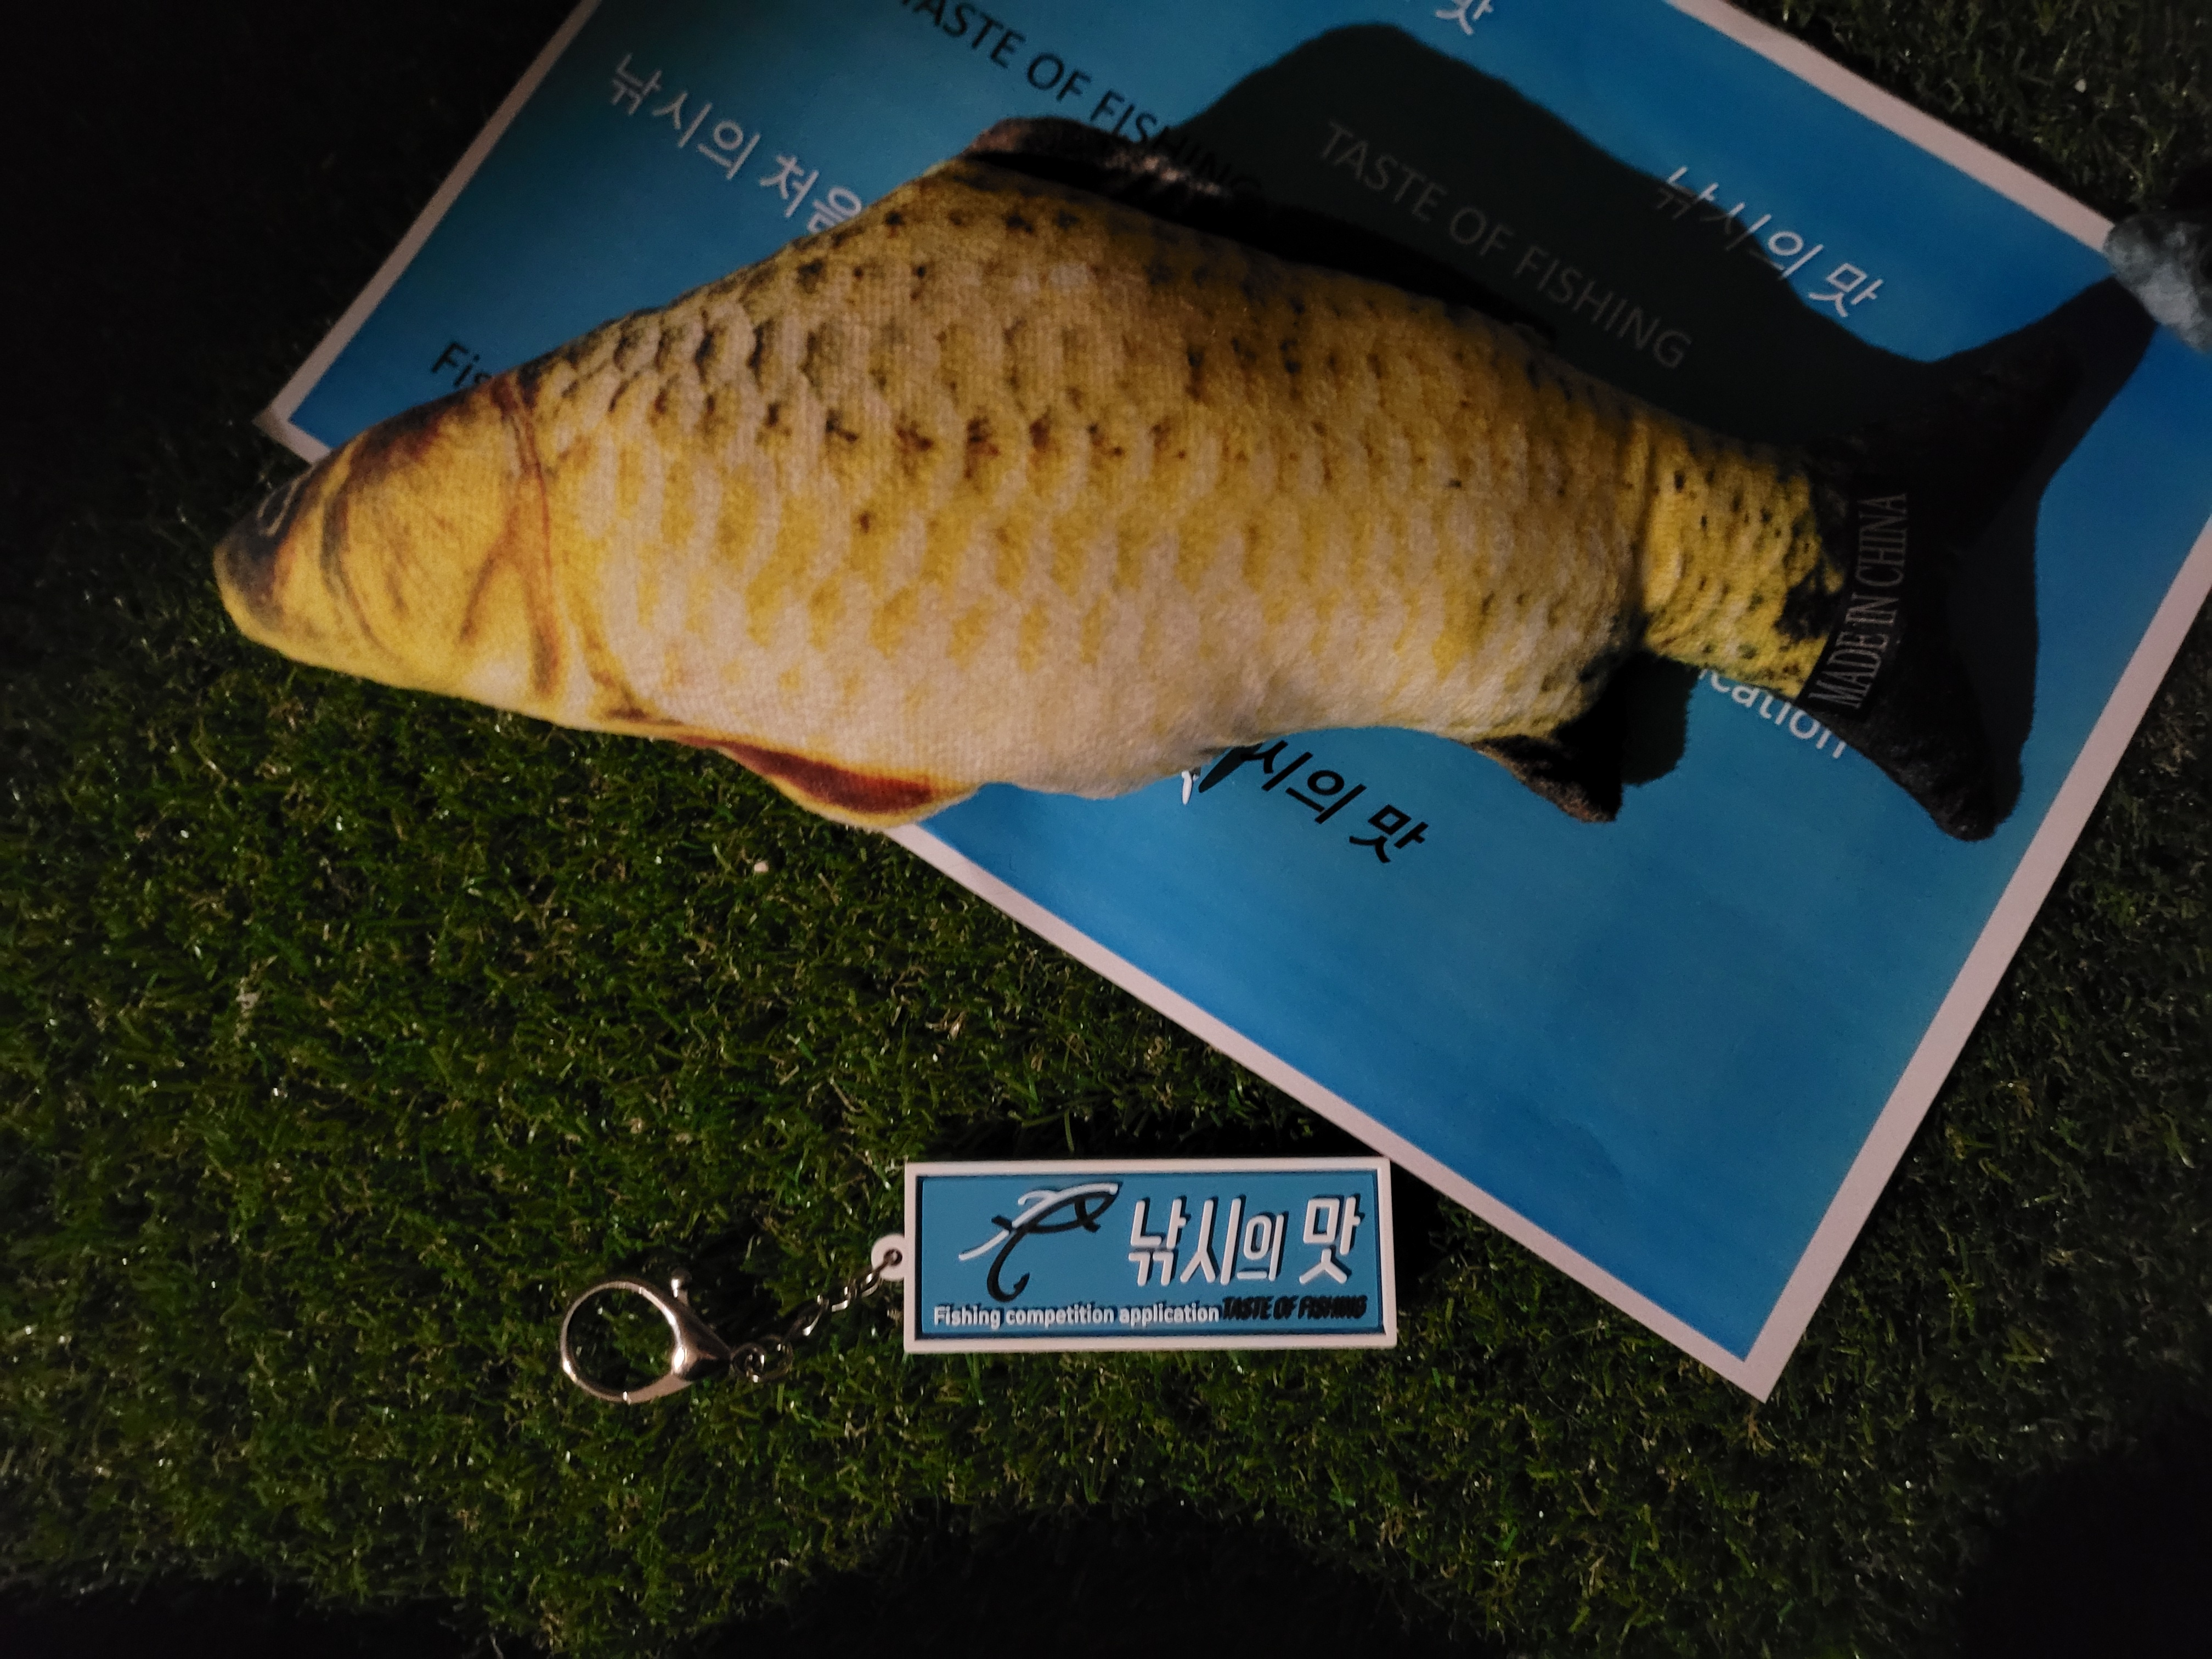fish: (216, 117, 2006, 847)
tag: (904, 1161, 1395, 1349)
